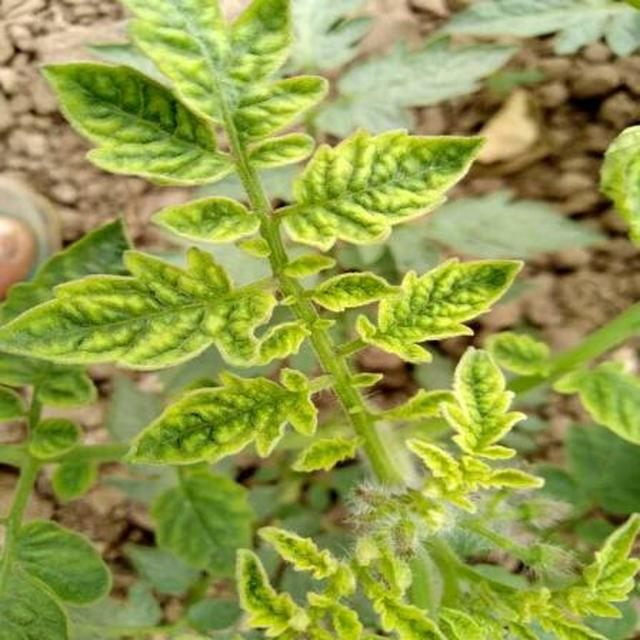Yellow Leaf Curl Virus: (140, 137, 640, 597)
